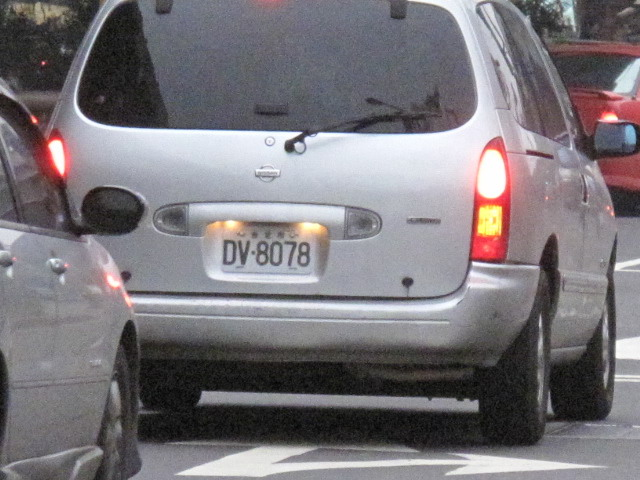plate: (220, 224, 313, 276)
